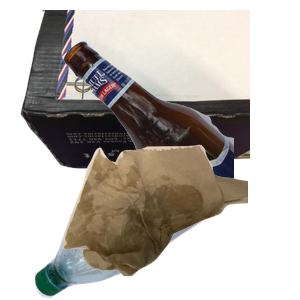cardboard: (18, 10, 258, 171)
glass: (60, 38, 300, 218)
plastic: (32, 154, 242, 300)
trash: (60, 142, 300, 300)
